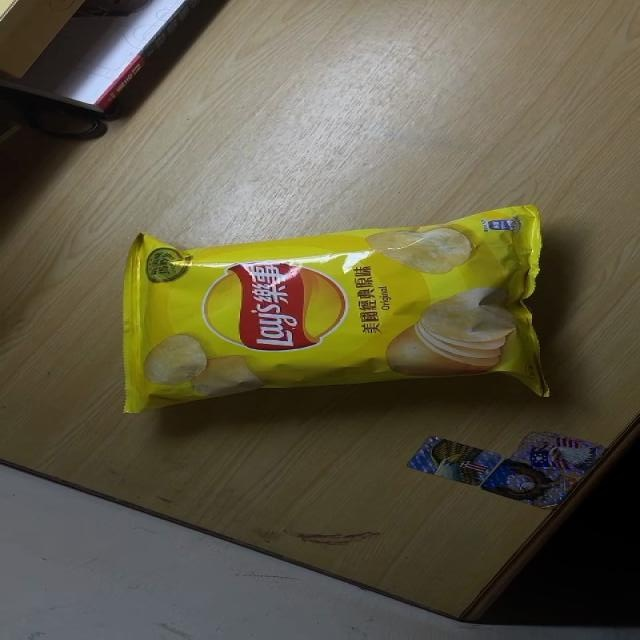Lay-s-original: (118, 203, 550, 415)
